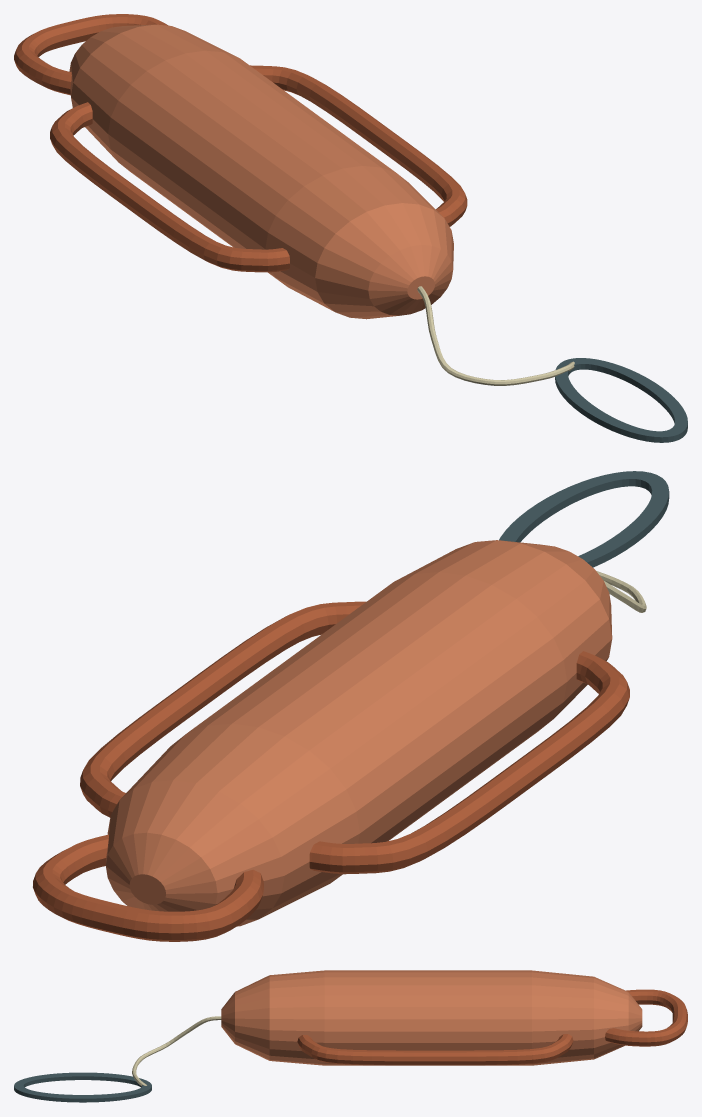
3 renders of one model, top to bottom at view 1: azimuth 30°, elevation 25°; view 2: azimuth 150°, elevation 25°; view 3: azimuth 270°, elevation 25°, orthographic. The views are drawn at different scales.
Parts seen in each view (by area): view 1: WholeBluntNosedStreamlinedCanBody, WholeLeftLongSideHandle, WholeRightLongSideHandle, WholeFlatOpenShoulderStrapLoop, WholeReturnedRearHandle, WholeContinuousCanToStrapLine; view 2: WholeBluntNosedStreamlinedCanBody, WholeLeftLongSideHandle, WholeRightLongSideHandle, WholeReturnedRearHandle, WholeFlatOpenShoulderStrapLoop, WholeContinuousCanToStrapLine; view 3: WholeBluntNosedStreamlinedCanBody, WholeRightLongSideHandle, WholeReturnedRearHandle, WholeFlatOpenShoulderStrapLoop, WholeContinuousCanToStrapLine.
Part boxes in pixels (x1=…): WholeBluntNosedStreamlinedCanBody: x1=69, y1=24, x2=453, y2=319; WholeLeftLongSideHandle: x1=50, y1=102, x2=289, y2=272; WholeRightLongSideHandle: x1=250, y1=65, x2=467, y2=226; WholeFlatOpenShoulderStrapLoop: x1=555, y1=358, x2=687, y2=442; WholeReturnedRearHandle: x1=14, y1=14, x2=168, y2=95; WholeContinuousCanToStrapLine: x1=417, y1=286, x2=574, y2=385; WholeBluntNosedStreamlinedCanBody: x1=105, y1=540, x2=612, y2=926; WholeLeftLongSideHandle: x1=309, y1=651, x2=629, y2=874; WholeRightLongSideHandle: x1=80, y1=601, x2=365, y2=817; WholeReturnedRearHandle: x1=33, y1=834, x2=263, y2=941; WholeFlatOpenShoulderStrapLoop: x1=499, y1=471, x2=669, y2=567; WholeContinuousCanToStrapLine: x1=596, y1=571, x2=646, y2=612; WholeBluntNosedStreamlinedCanBody: x1=221, y1=970, x2=642, y2=1065; WholeRightLongSideHandle: x1=297, y1=1034, x2=573, y2=1065; WholeReturnedRearHandle: x1=605, y1=989, x2=687, y2=1046; WholeFlatOpenShoulderStrapLoop: x1=14, y1=1072, x2=151, y2=1102; WholeContinuousCanToStrapLine: x1=132, y1=1016, x2=221, y2=1086.
Bounding box in the file's own units: 0.298 × 0.13 × 0.976.
